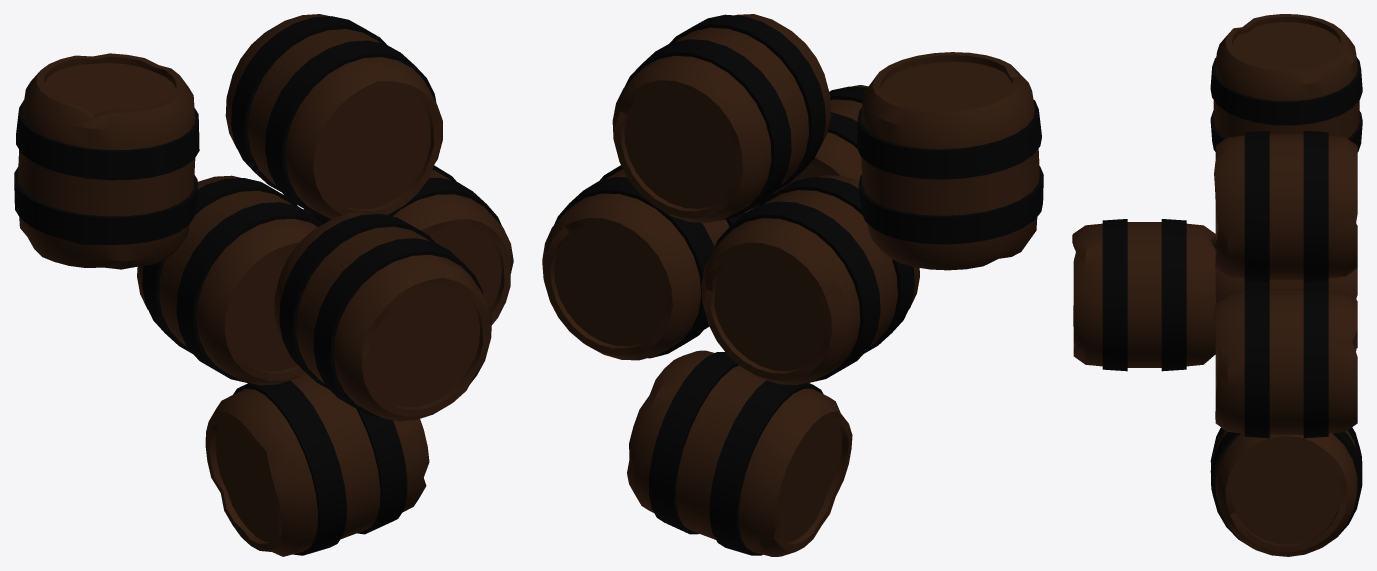
Rendered from barrel.obj.
3 renders of one model, left to right at view 1: azimuth 30°, elevation 25°; view 2: azimuth 150°, elevation 25°; view 3: azimuth 270°, elevation 25°, orthographic. The views are drawn at different scales.
Parts seen in each view (by area): view 1: Cylinder.003; view 2: Cylinder.003; view 3: Cylinder.003.
Boxes of the visible parts, x1,y1,x2,y2 form: Cylinder.003: (14, 14, 513, 556); Cylinder.003: (542, 14, 1043, 556); Cylinder.003: (1072, 14, 1362, 556).
Bounding box in the file's own units: 0.1433 × 0.1528 × 0.0955.
